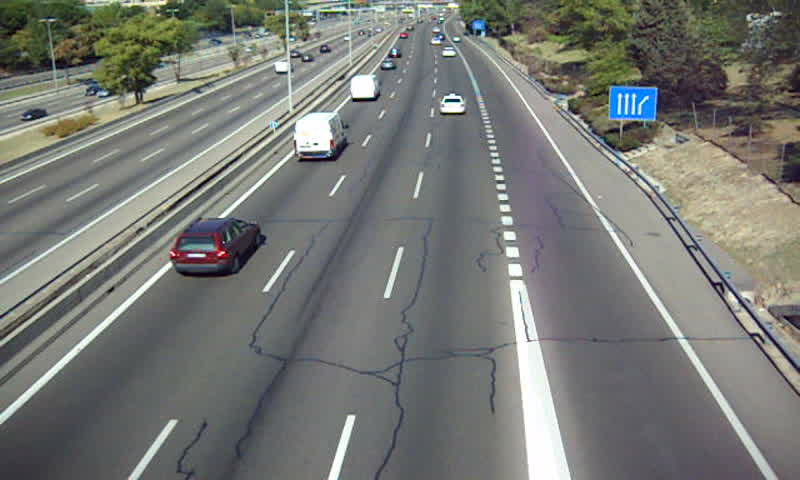car: (170, 218, 262, 277), (440, 94, 465, 115), (441, 46, 457, 58), (380, 59, 396, 70), (389, 46, 402, 59)
van: (293, 112, 348, 162), (349, 74, 380, 98)
